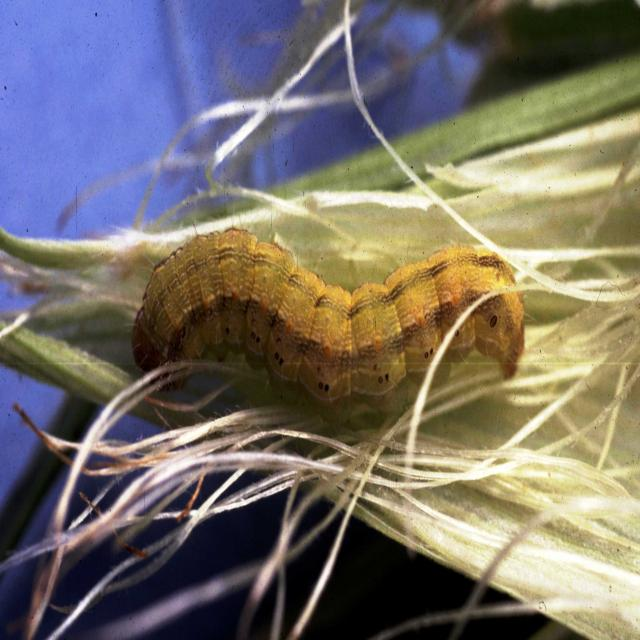Corn-earworm: (136, 225, 525, 403)
